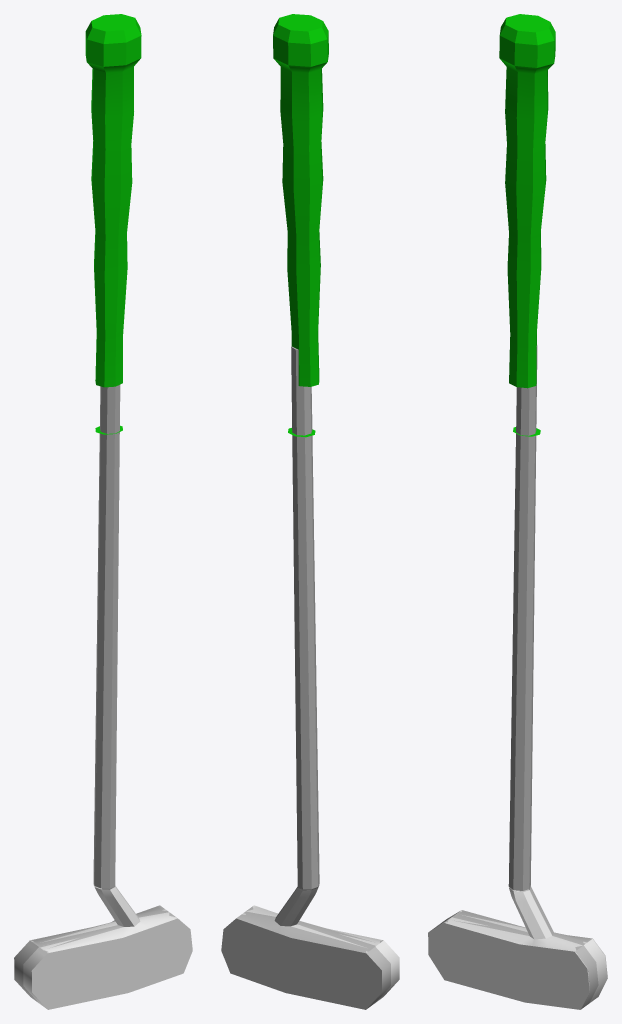
File: golf_clubs.fbx
The picture shows the model from 3 angles, left to right: view 1: azimuth 30°, elevation 25°; view 2: azimuth 150°, elevation 25°; view 3: azimuth 330°, elevation 25°; orthographic projection.
Parts seen in each view (by area): view 1: putter_handle, putter_head_ghost, putter_shaft, putter_head; view 2: putter_handle, putter_head, putter_shaft, putter_head_ghost; view 3: putter_handle, putter_head_ghost, putter_shaft, putter_head.
Part boxes in pixels (box(x1,y1,x2,y2)): putter_handle: box(85, 14, 141, 387); putter_head_ghost: box(23, 884, 192, 1009); putter_shaft: box(93, 385, 122, 888); putter_head: box(14, 887, 175, 1002); putter_handle: box(273, 14, 328, 386); putter_head: box(221, 886, 390, 1009); putter_shaft: box(288, 346, 319, 889); putter_head_ghost: box(242, 886, 399, 1002); putter_handle: box(499, 14, 555, 388); putter_head_ghost: box(428, 886, 607, 1009); putter_shaft: box(508, 345, 540, 890); putter_head: box(439, 887, 607, 1009).
Size of the model in its own units: 6.59 by 37.81 by 1.8.
